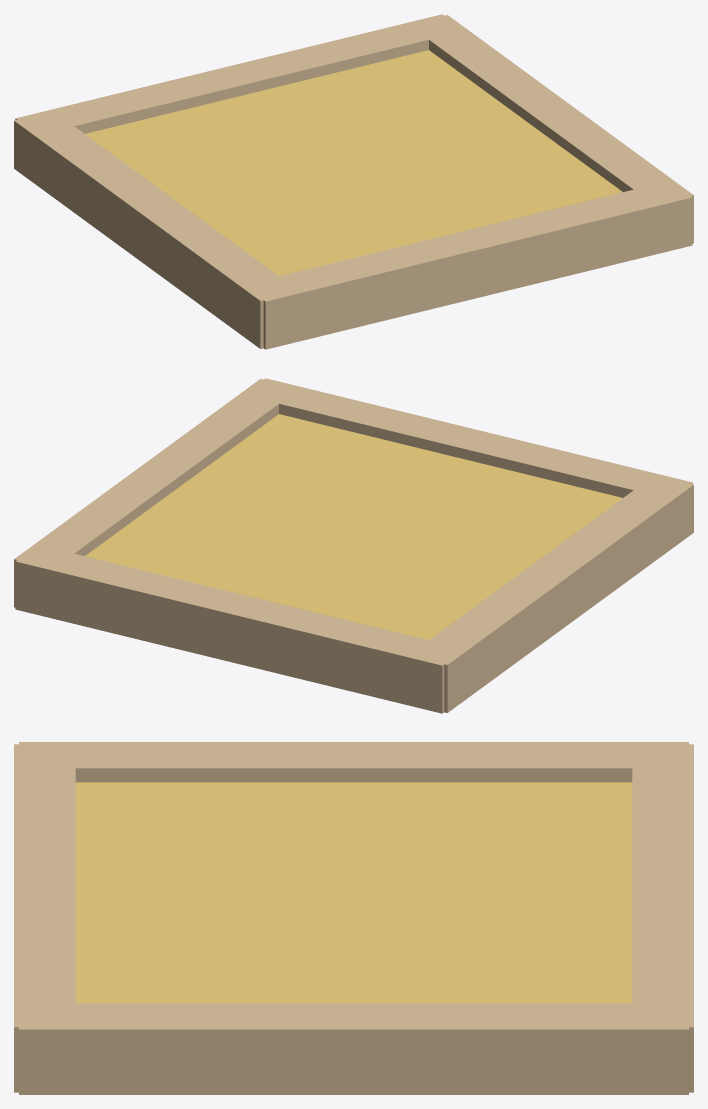
The model's file is frame_held.gltf.
3 views of the same model, one above another, from view 1: azimuth 30°, elevation 25°; view 2: azimuth 150°, elevation 25°; view 3: azimuth 270°, elevation 25° (orthographic). The views are drawn at different scales.
Parts seen in each view (by area): view 1: bees_frame_held; view 2: bees_frame_held; view 3: bees_frame_held.
Part boxes in pixels (<box>): bees_frame_held: <box>14,14,693,349</box>; bees_frame_held: <box>14,378,693,713</box>; bees_frame_held: <box>14,742,693,1094</box>.
Size of the model in its own units: 0.132 by 0.014 by 0.132.
